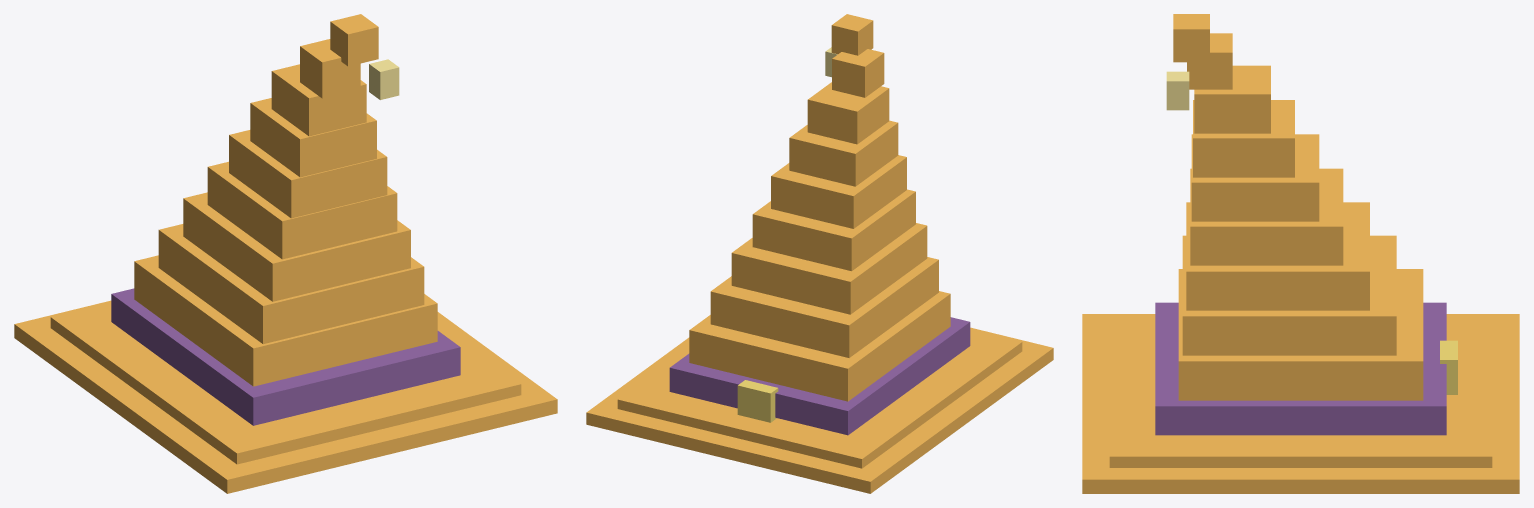
Rendered from chapeu_bruxa_laranja.glb.
3 renders of one model, left to right at view 1: azimuth 30°, elevation 25°; view 2: azimuth 150°, elevation 25°; view 3: azimuth 270°, elevation 25°, orthographic. The views are drawn at different scales.
Parts seen in each view (by area): view 1: chapeu_bruxa_laranja; view 2: chapeu_bruxa_laranja; view 3: chapeu_bruxa_laranja.
Boxes of the visible parts, x1,y1,x2,y2 form: chapeu_bruxa_laranja: (14, 14, 557, 493); chapeu_bruxa_laranja: (586, 14, 1053, 493); chapeu_bruxa_laranja: (1082, 14, 1519, 493).
Bounding box in the file's own units: 0.86 × 0.9625 × 0.96.
